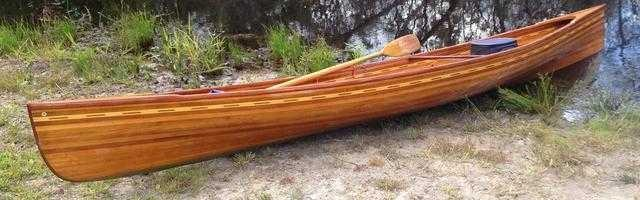kayak: (29, 9, 605, 184)
